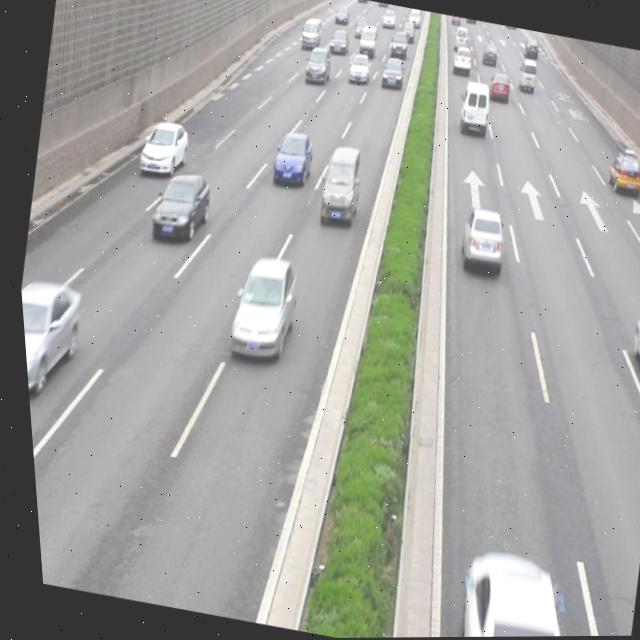car: (439, 544, 573, 638), (16, 272, 88, 415), (217, 252, 303, 368), (142, 168, 215, 253), (449, 206, 507, 278), (132, 117, 192, 180), (266, 128, 316, 188), (600, 145, 640, 200), (616, 297, 640, 388)
truck: (309, 141, 366, 232), (453, 79, 491, 138)
